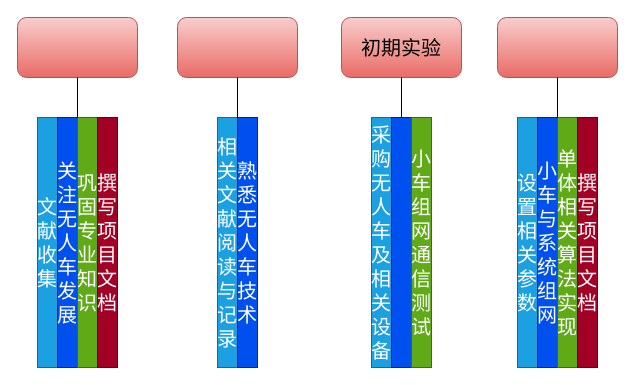
The diagram is 635 pixels wide and 385 high, and some of its shapes have lost their labels. Each missing label, with the box of its shape:
初期调研: (16, 16, 138, 78)
文献整理: (176, 16, 298, 78)
熟悉树莓派知识体系: (390, 116, 412, 368)
系统开发: (496, 16, 618, 78)
